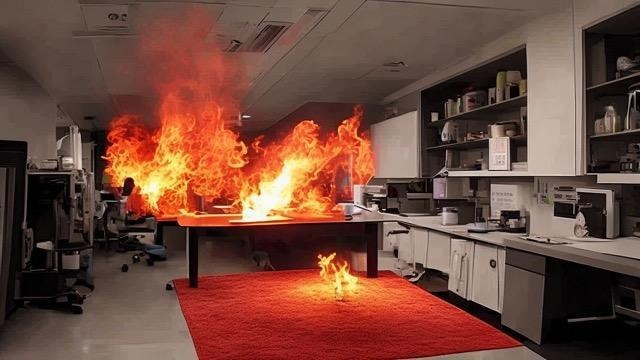fire: (104, 39, 378, 243)
